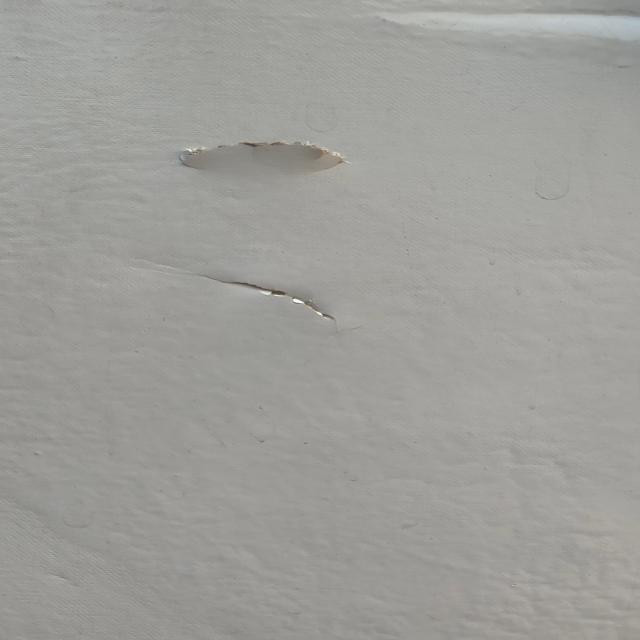Scratches: (189, 260, 383, 339), (153, 133, 389, 181)
